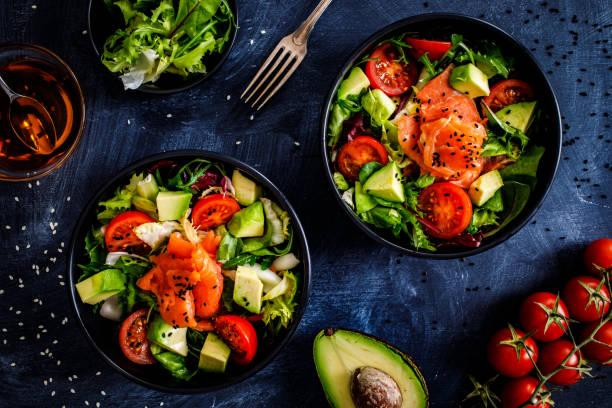Braised Crucian Carp: (68, 151, 312, 394), (324, 13, 558, 257)
